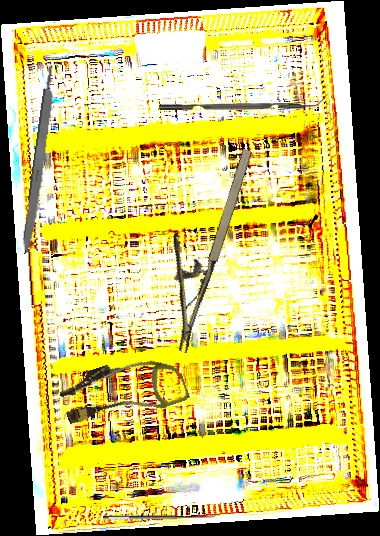Cannula: (55, 342, 191, 439)
Chopper: (159, 97, 326, 110)
Hook Surgical: (103, 507, 216, 521)
Needle Holder: (137, 136, 259, 354)
Scalpel Handle: (20, 65, 60, 256)
